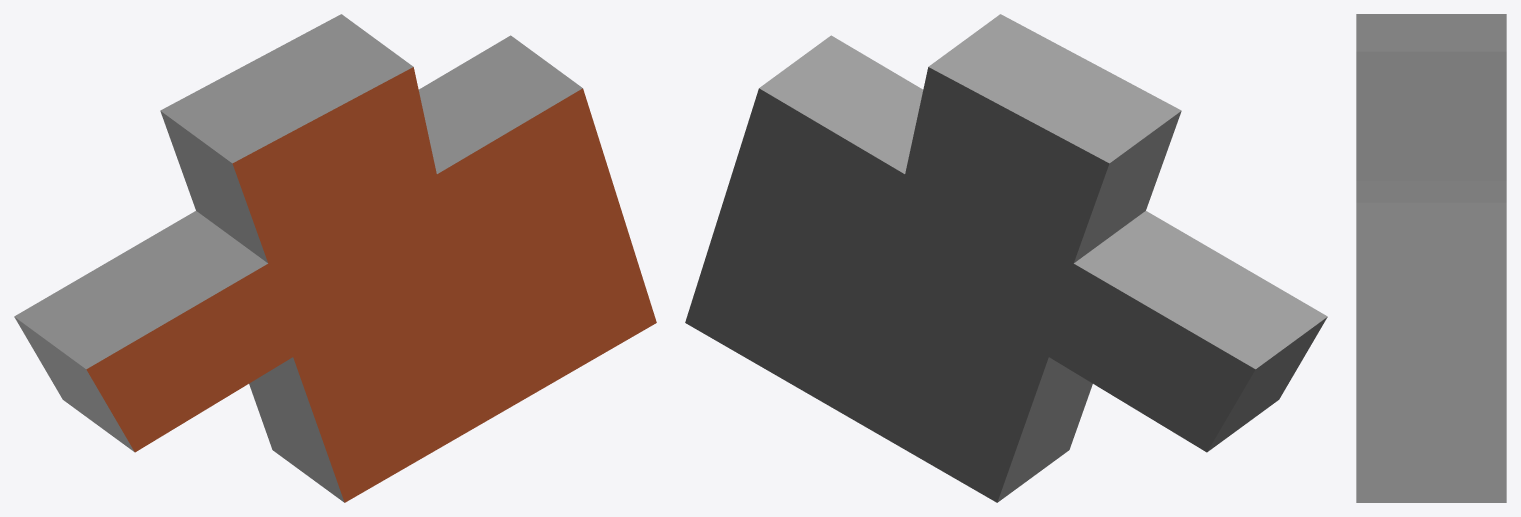
File: construction_6607_assumed_A_Casa_h6m.obj
3 views of the same model, side by side, from view 1: azimuth 30°, elevation 25°; view 2: azimuth 150°, elevation 25°; view 3: azimuth 270°, elevation 25° (orthographic). The views are drawn at different scales.
Parts seen in each view (by area): view 1: construction_6607_assumed_A_Casa; view 2: construction_6607_assumed_A_Casa; view 3: construction_6607_assumed_A_Casa.
Part boxes in pixels (<box>): construction_6607_assumed_A_Casa: <box>14,14,656,502</box>; construction_6607_assumed_A_Casa: <box>685,14,1327,502</box>; construction_6607_assumed_A_Casa: <box>1356,14,1506,502</box>.
Size of the model in its own units: 27.36 by 19.21 by 6.
